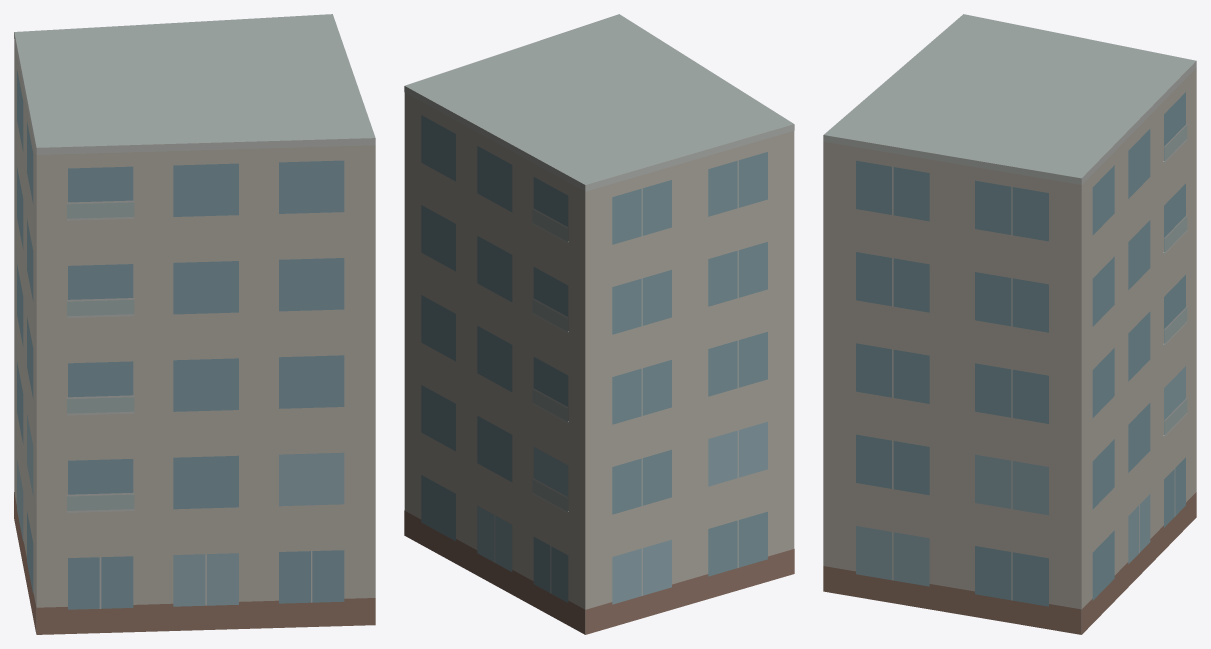
The model's file is survey-upis-32527621.glb.
3 renders of one model, left to right at view 1: azimuth 30°, elevation 25°; view 2: azimuth 150°, elevation 25°; view 3: azimuth 270°, elevation 25°, orthographic. The views are drawn at different scales.
Visible parts, largest first — view 1: survey-upis-32527621.tmp; view 2: survey-upis-32527621.tmp; view 3: survey-upis-32527621.tmp.
Boxes of the visible parts, x1,y1,x2,y2 form: survey-upis-32527621.tmp: (14, 14, 375, 634); survey-upis-32527621.tmp: (404, 14, 794, 634); survey-upis-32527621.tmp: (823, 14, 1196, 634).
Bounding box in the file's own units: 12.93 × 16.73 × 12.4.
